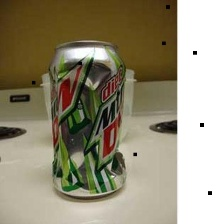can: (46, 38, 131, 203)
